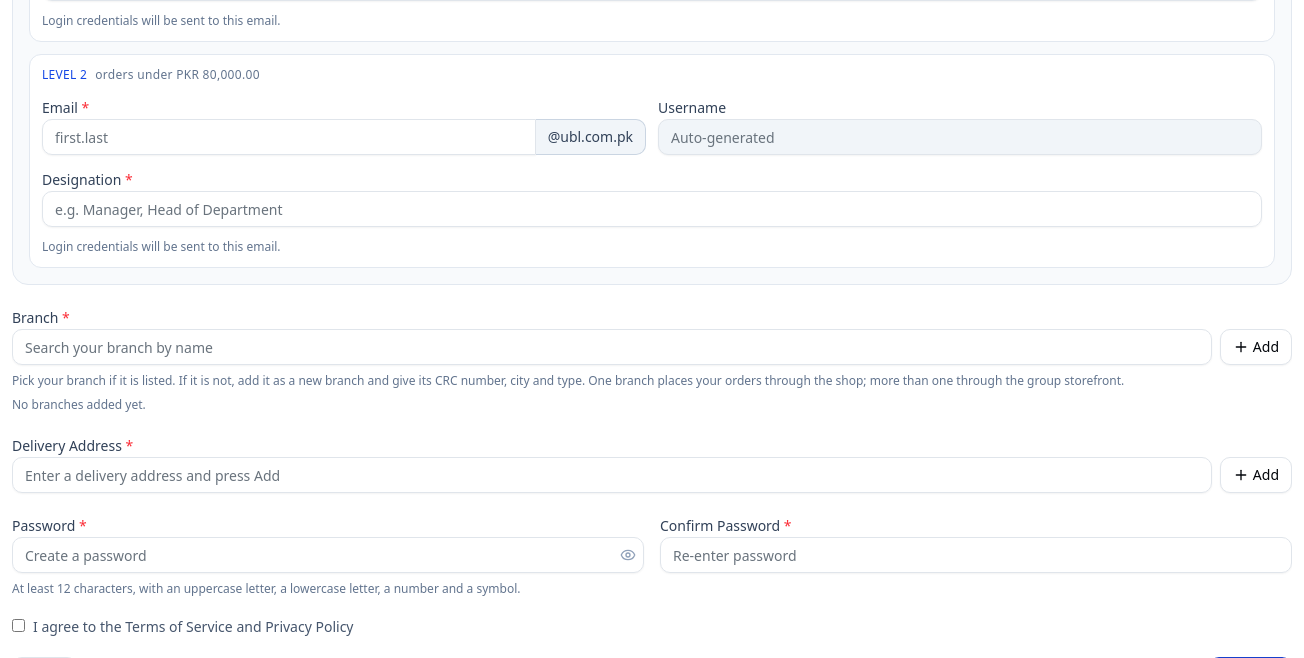
Test: DepartmentSignupForm › refuses a new branch name that is too short before asking for a CRC
(page scrolled)
Type "K" into the field with id "signup-branch". click: point(612, 347)
box: x1=12 y1=329 x2=1212 y2=365
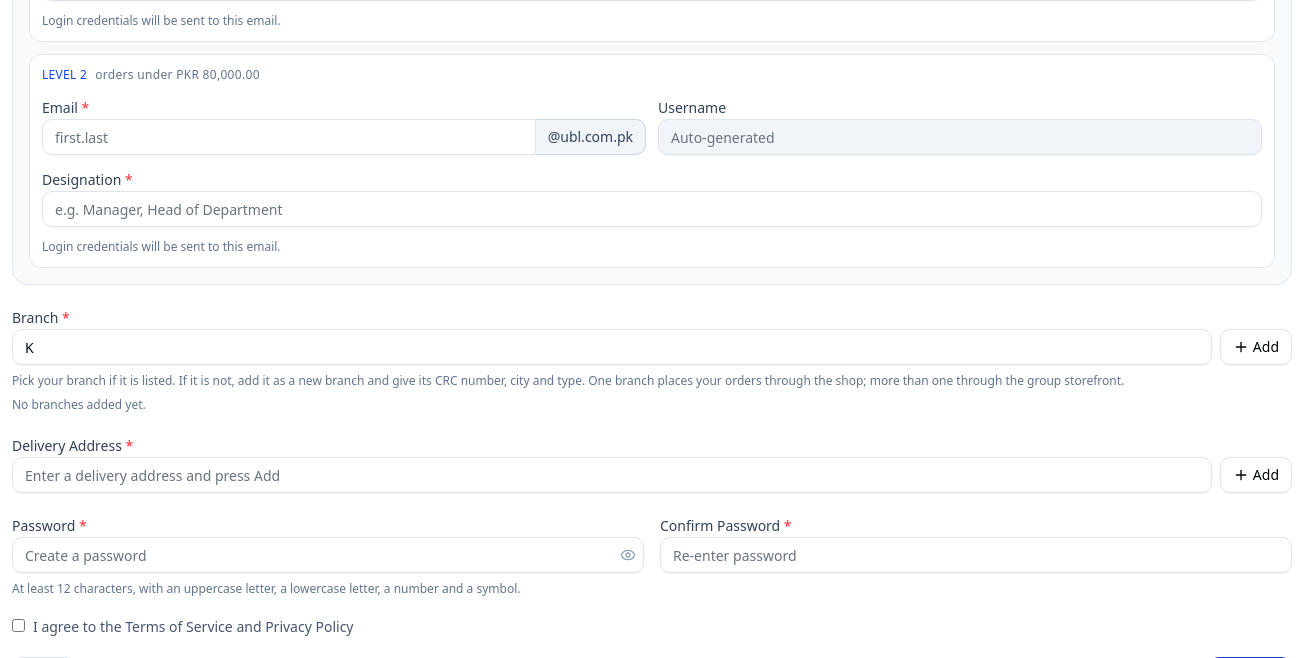
Click the 1st button "Add". click: point(1256, 347)
box: x1=1220 y1=329 x2=1292 y2=365
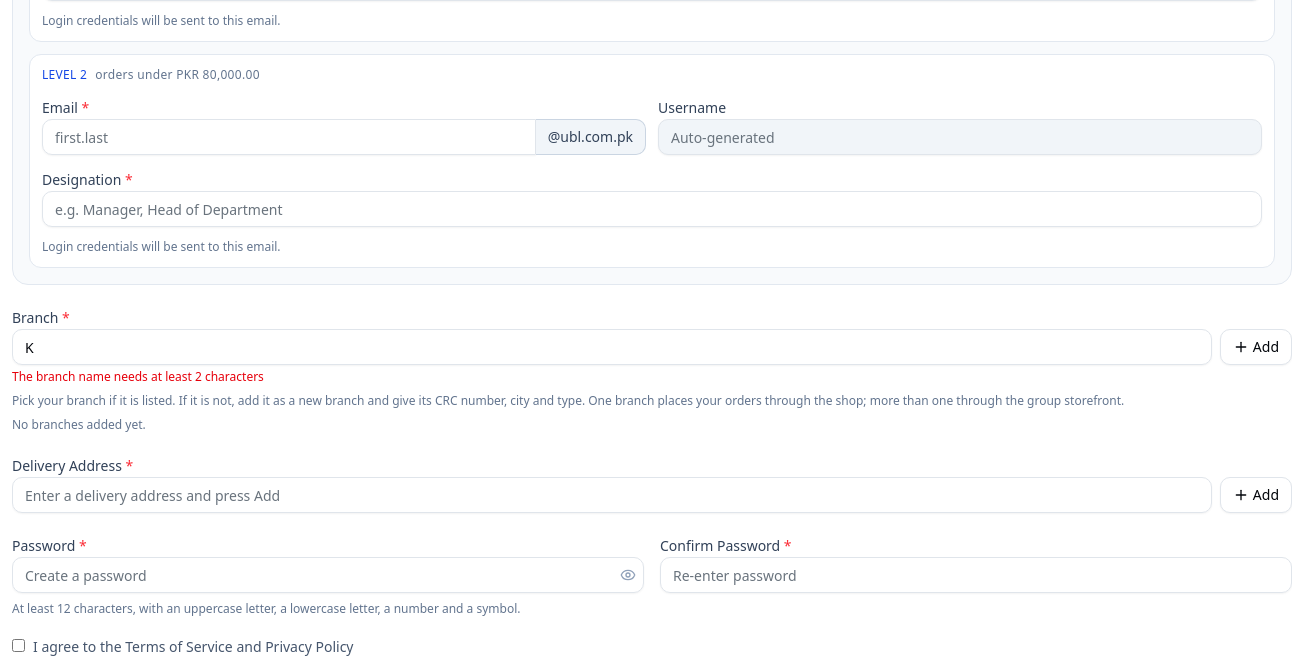
Expected: the text "The branch name needs at least 2 characters" is shown, x1=12 y1=368 x2=264 y2=385
